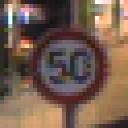speed_limit_50: (30, 28, 112, 108)
